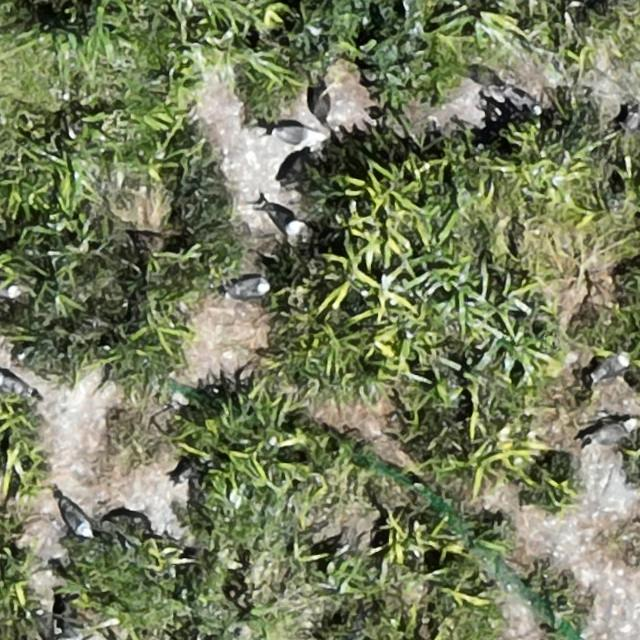umineko: (588, 419, 637, 447), (263, 209, 302, 234), (594, 355, 629, 380), (272, 125, 314, 145), (62, 503, 88, 535), (228, 277, 268, 297), (1, 375, 26, 394)
